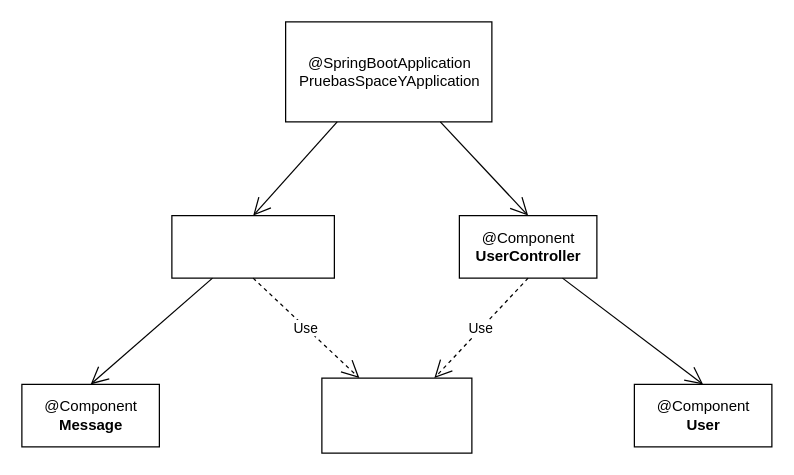
The diagram is 794 pixels wide and 475 high, and some of its shapes have lost their labels. The centre of each missing label's shape, as x and y in pixels:
@Component MessageController: point 252,246
Database: point 396,415
